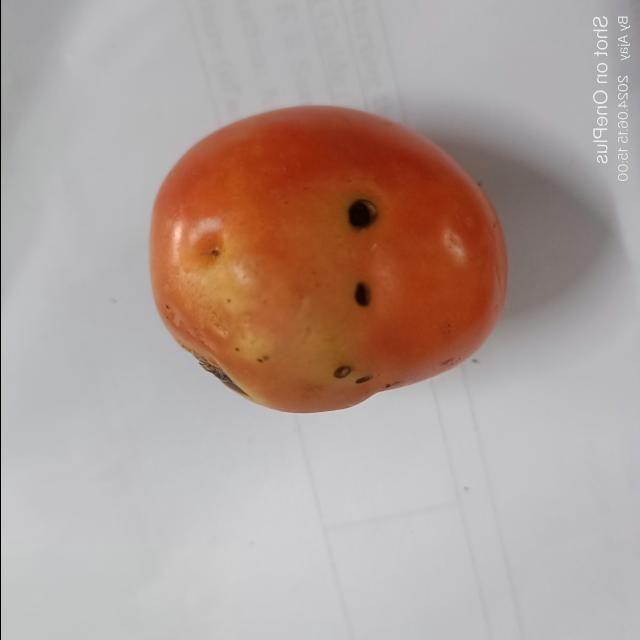fruitworm_bore: (342, 195, 378, 241), (328, 361, 373, 397), (348, 276, 378, 308)
